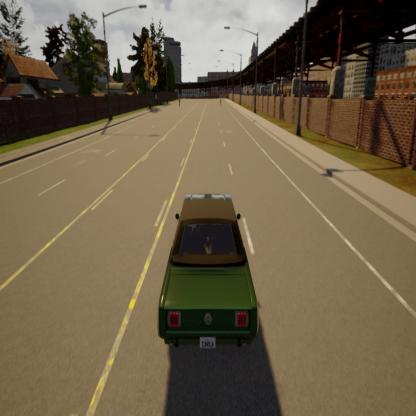Cars: (153, 172, 262, 362)
